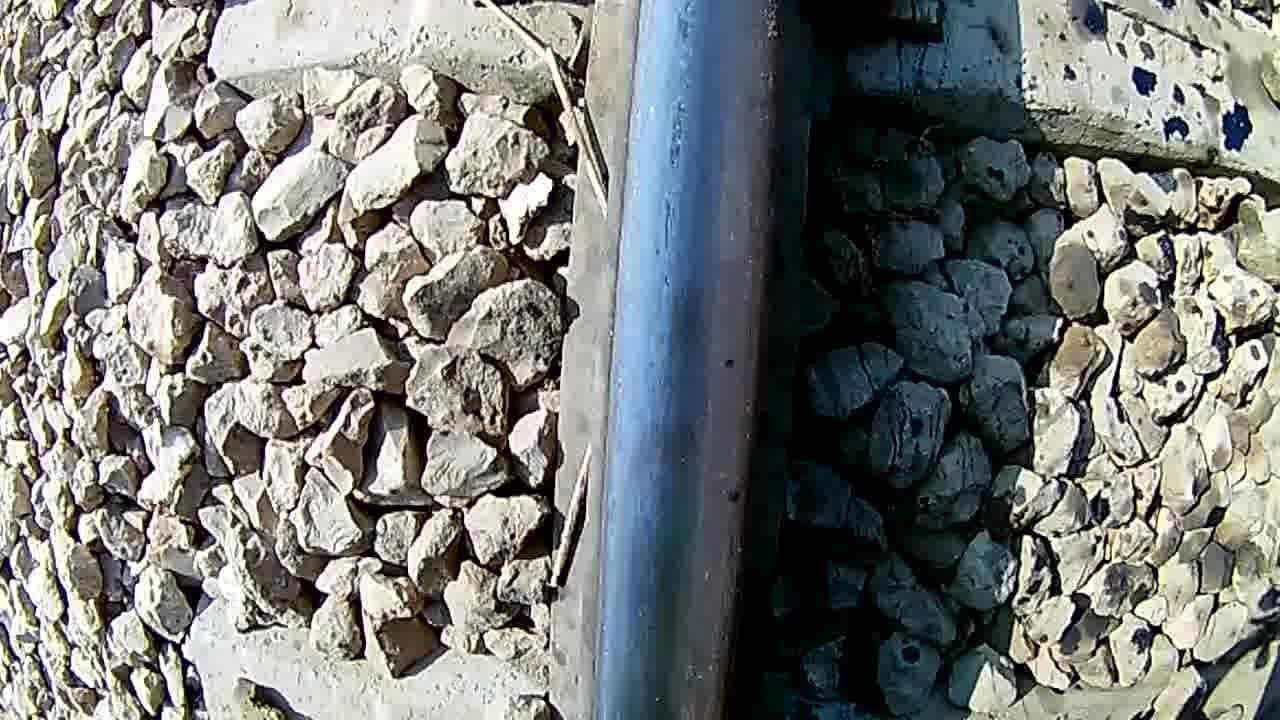crack: (624, 6, 727, 720)
